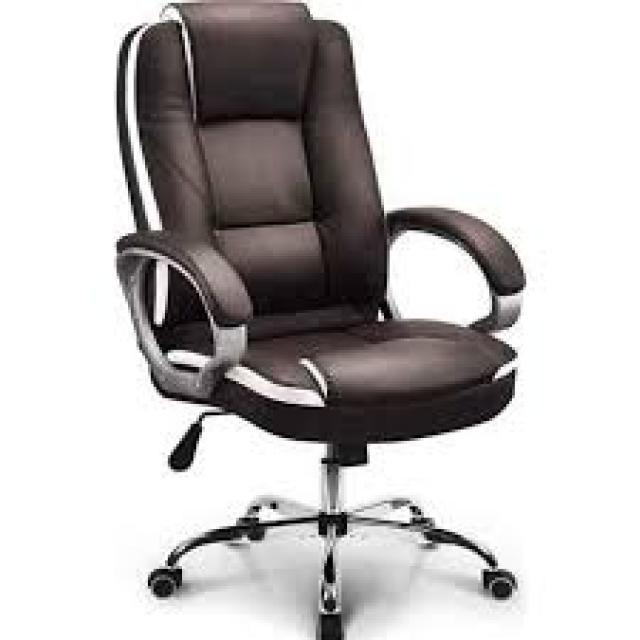chair: (17, 2, 634, 640)
